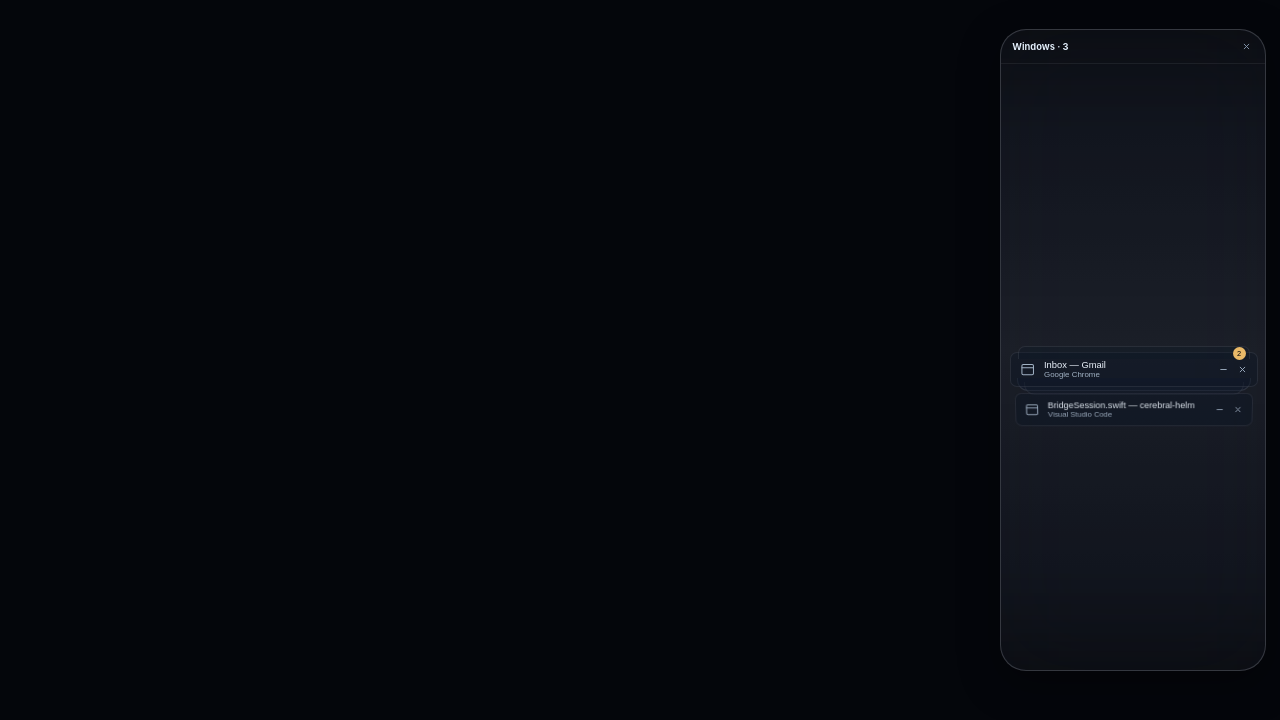
Test: WindowNavigator (NIC-143) › expands a stacked app to reveal every window
The image size is (1280, 720).
Step 1. Click the button named "Show all 2 Google Chrome windows" → (1239, 354), box [1232, 347, 1245, 360]
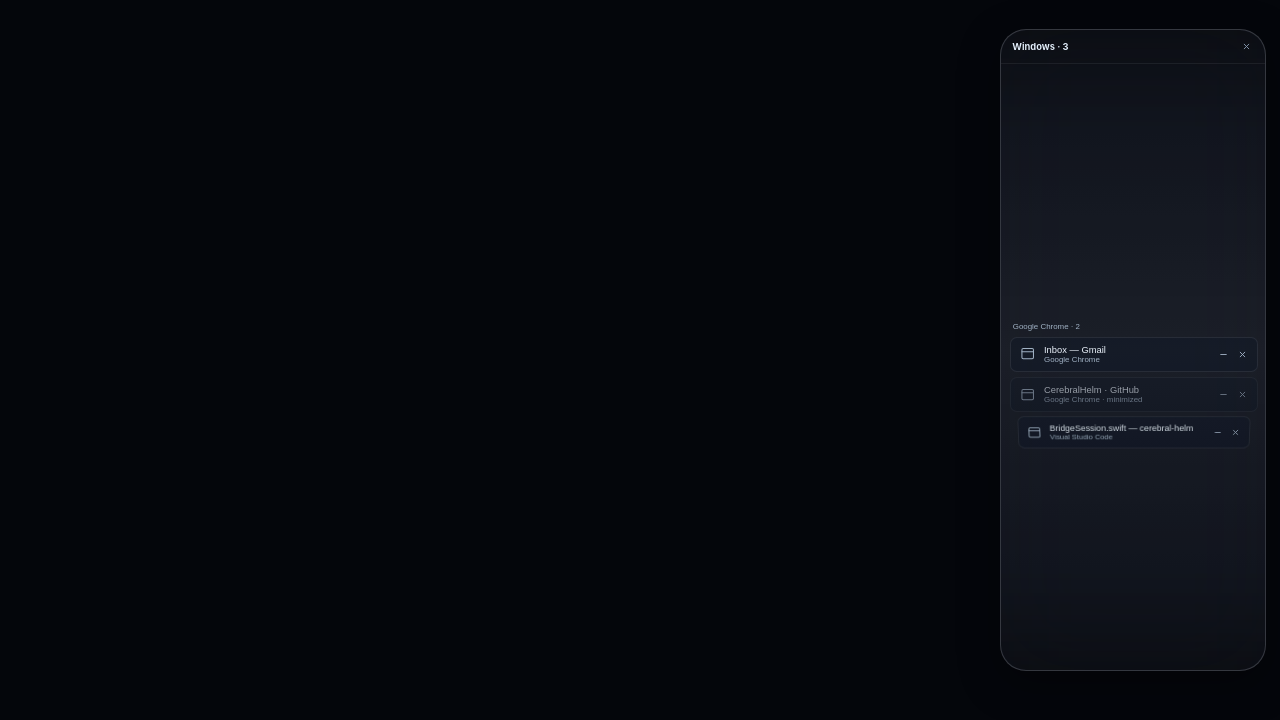
Check: the text "CerebralHelm · GitHub" is shown, box [1044, 385, 1142, 395]
